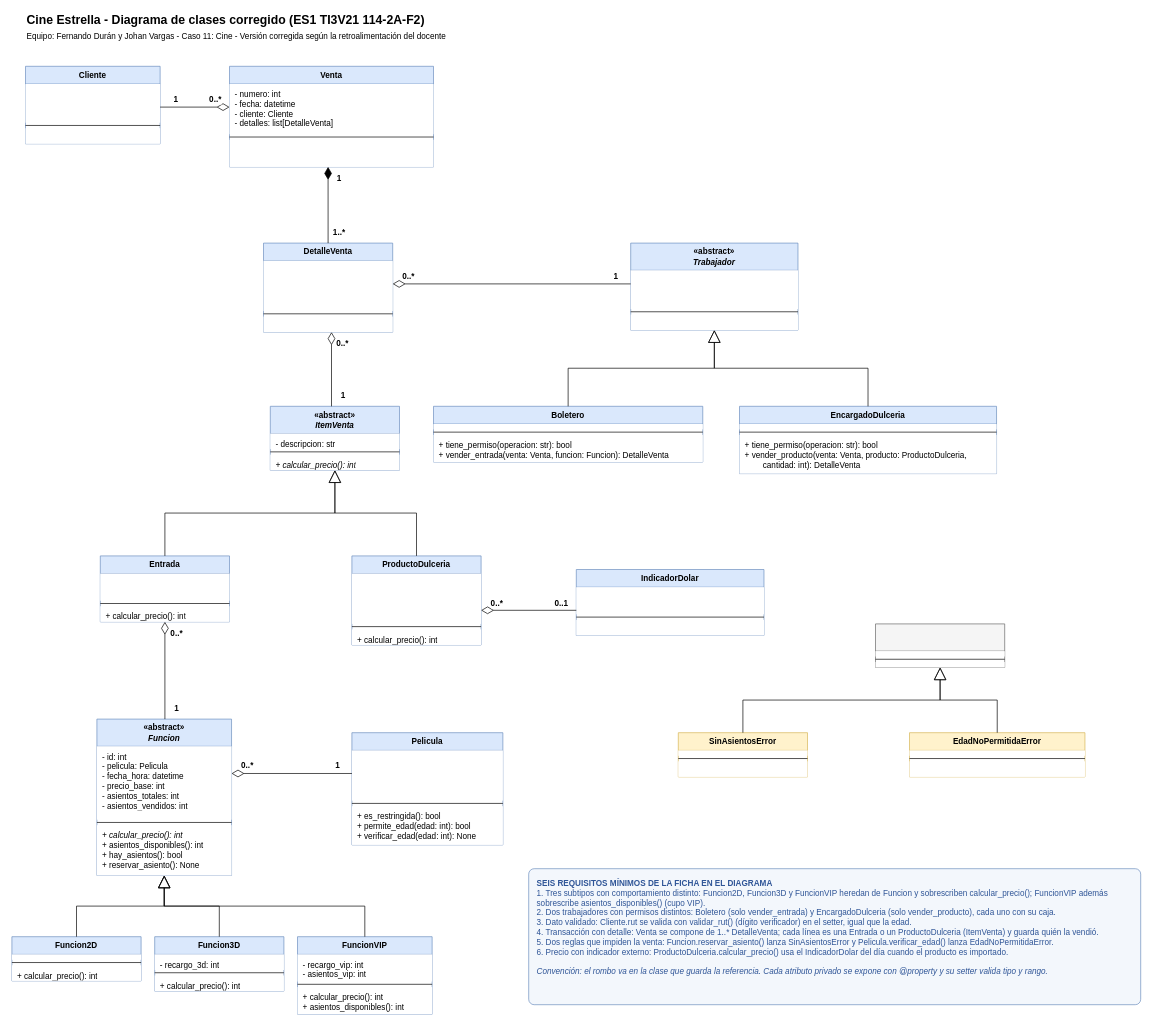
Image size: 1153x1026. Some labels were removed from this diagram. The shapes that lost their labels are listed below. From the top down, each one's centre as x and y in pixels, then its label:
[92,103]: - rut: str - nombre: str - edad: int
[92,135]: + validar_rut(rut: str): bool
[331,153]: + agregar_detalle(detalle: DetalleVenta): None + calcular_total(): int
[327,285]: - item: ItemVenta - cantidad: int - precio_unitario: int - vendedor: Trabajador
[714,289]: - id: int - nombre: str - caja: int
[327,324]: + calcular_subtotal(): int
[714,322]: + tiene_permiso(operacion: str): bool
[164,586]: - numero: int - funcion: Funcion
[416,598]: - id: int - precio_base: float - importado: bool - indicador: IndicadorDolar
[670,600]: - fecha: date - valor_dolar: float
[670,627]: + convertir_a_pesos(monto_usd: float): int
[940,645]: «Python» Exception
[427,775]: - id: int - titulo: str - duracion_min: int - edad_minima: int
[742,769]: + __init__(id_funcion: int)
[997,769]: + __init__(edad: int, edad_minima: int)
